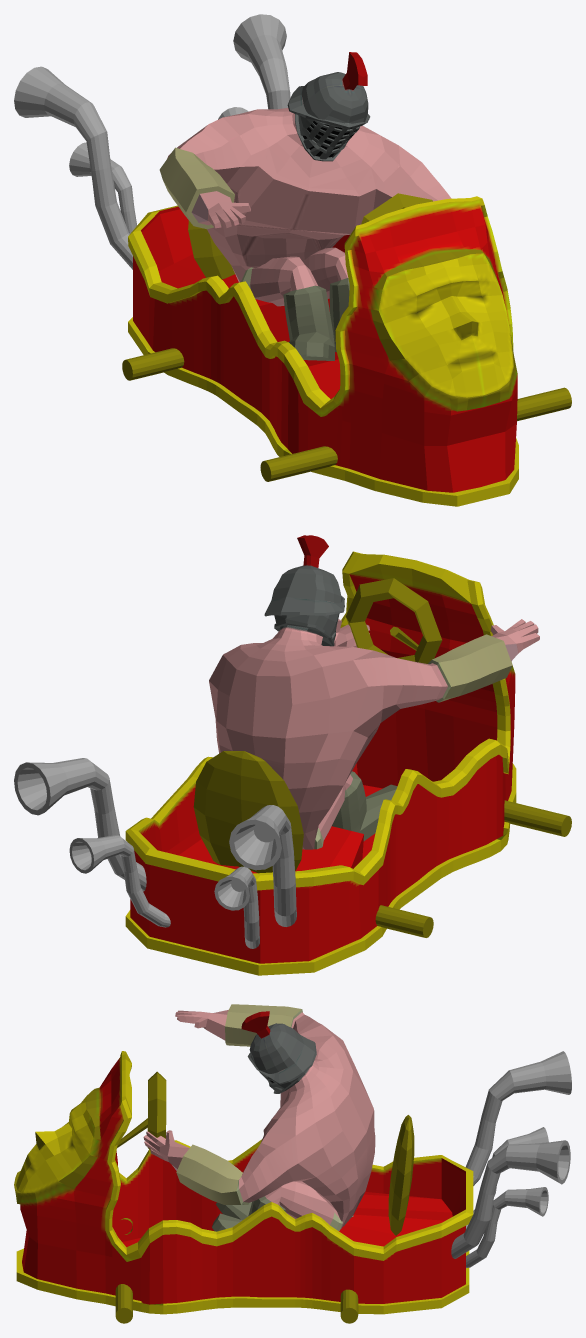
Rendered from gladiVacile_000578.obj.
The picture shows the model from 3 angles, top to bottom: view 1: azimuth 30°, elevation 25°; view 2: azimuth 150°, elevation 25°; view 3: azimuth 270°, elevation 25°; orthographic projection. The views are drawn at different scales.
Parts seen in each view (by area): view 1: GladiChasis_GladiChasisH, Gadiador_Gladiador_H.001, GladiTubos_GladiTubosH, GladiVolante_GladiVolanteH; view 2: GladiChasis_GladiChasisH, Gadiador_Gladiador_H.001, GladiTubos_GladiTubosH, GladiVolante_GladiVolanteH; view 3: GladiChasis_GladiChasisH, Gadiador_Gladiador_H.001, GladiTubos_GladiTubosH, GladiVolante_GladiVolanteH.
Boxes of the visible parts, bbox=[...] form: GladiChasis_GladiChasisH: bbox=[128, 196, 518, 506]; Gadiador_Gladiador_H.001: bbox=[159, 52, 451, 360]; GladiTubos_GladiTubosH: bbox=[14, 14, 290, 269]; GladiVolante_GladiVolanteH: bbox=[122, 193, 571, 481]; GladiChasis_GladiChasisH: bbox=[125, 551, 516, 975]; Gadiador_Gladiador_H.001: bbox=[209, 535, 539, 849]; GladiTubos_GladiTubosH: bbox=[14, 758, 296, 948]; GladiVolante_GladiVolanteH: bbox=[193, 578, 571, 937]; GladiChasis_GladiChasisH: bbox=[14, 1051, 473, 1314]; Gadiador_Gladiador_H.001: bbox=[143, 1004, 375, 1231]; GladiTubos_GladiTubosH: bbox=[451, 1051, 571, 1267]; GladiVolante_GladiVolanteH: bbox=[115, 1071, 414, 1323].
Bounding box in the file's own units: 5.69 × 5.71 × 10.78.
